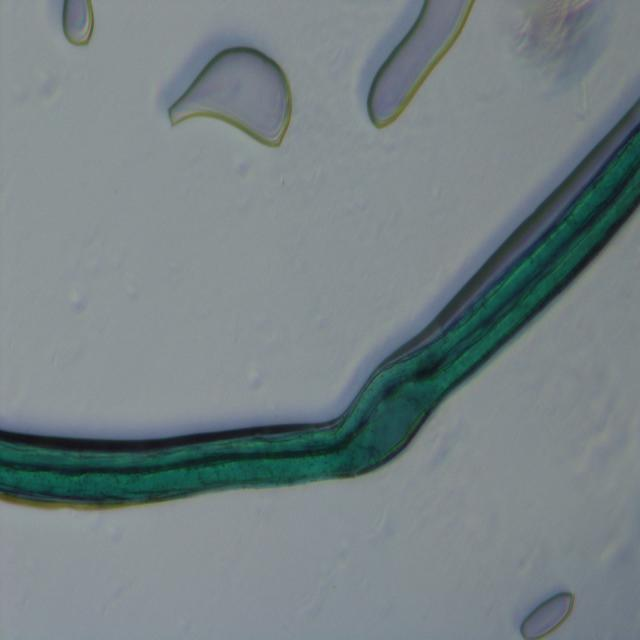Air bubble: (164, 40, 294, 150), (369, 1, 474, 132), (517, 589, 578, 639), (60, 1, 96, 49)
Background material: (510, 0, 612, 101)
Microfibre: (0, 123, 640, 514)
